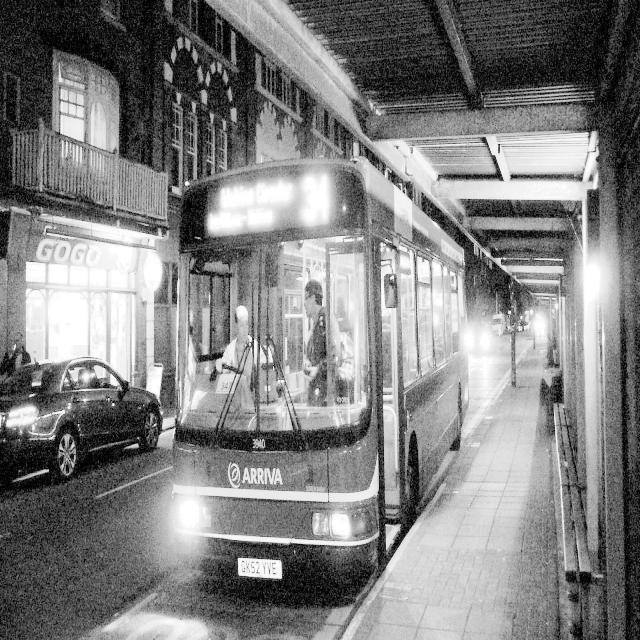Bus: (160, 172, 472, 611)
Car: (0, 337, 162, 504), (512, 294, 552, 358), (460, 311, 489, 365), (480, 291, 506, 351)
